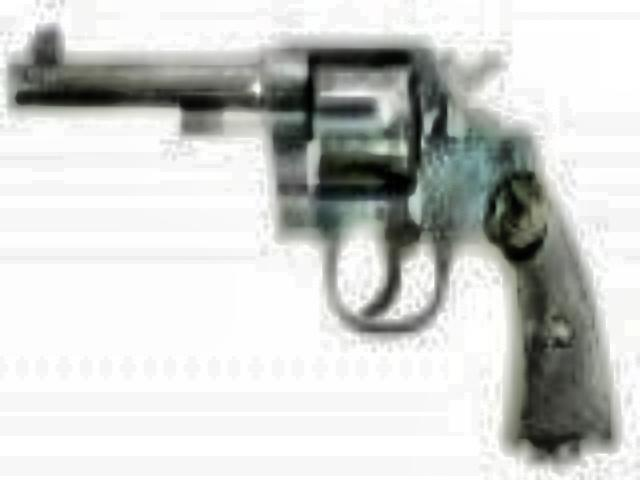pistol: (4, 16, 616, 436)
